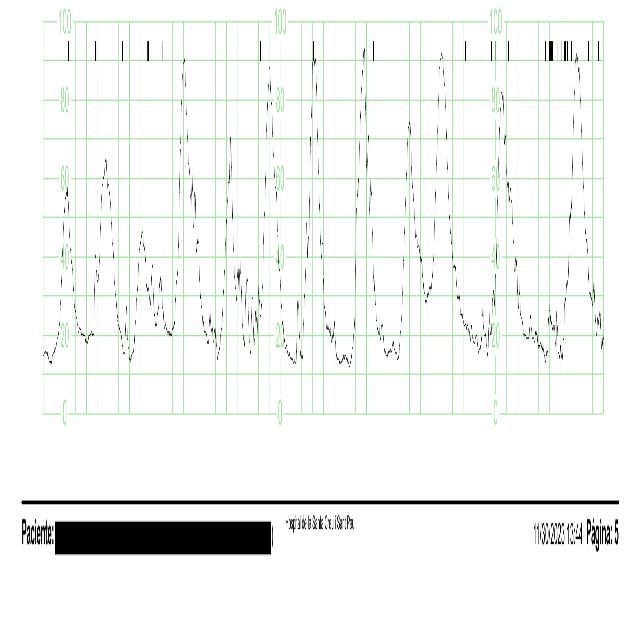contraction: (349, 44, 383, 367), (561, 56, 597, 353), (301, 46, 332, 367), (169, 75, 203, 342), (258, 64, 286, 344), (490, 81, 520, 334), (431, 52, 458, 301), (218, 143, 243, 357), (92, 160, 120, 342), (398, 139, 418, 365), (55, 195, 74, 361), (133, 230, 153, 357)
